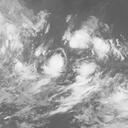cyclone: (40, 47, 92, 97)
